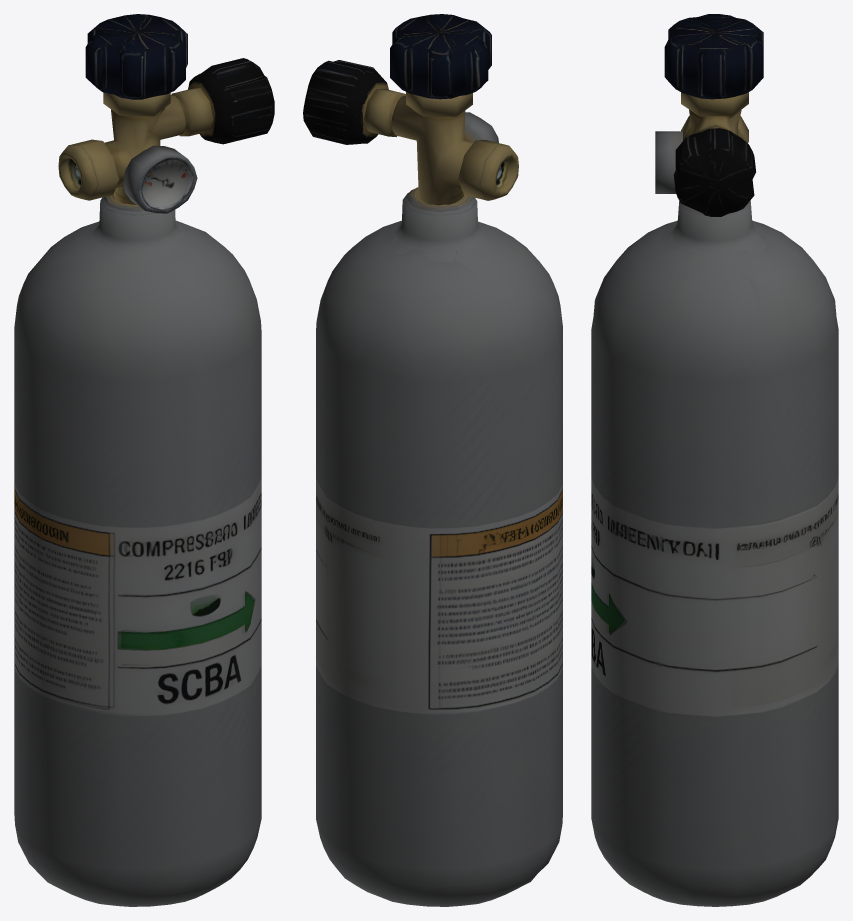
Rendered from PPE_A_SCBA_Cylinder.fbx.
3 views of the same model, side by side, from view 1: azimuth 30°, elevation 25°; view 2: azimuth 150°, elevation 25°; view 3: azimuth 270°, elevation 25° (orthographic).
Parts seen in each view (by area): view 1: tripo_node_a2a2c560-8eca-45fb-bfc4-954d48823762; view 2: tripo_node_a2a2c560-8eca-45fb-bfc4-954d48823762; view 3: tripo_node_a2a2c560-8eca-45fb-bfc4-954d48823762.
Part boxes in pixels (x1,y1,x2,y2): tripo_node_a2a2c560-8eca-45fb-bfc4-954d48823762: (14, 14, 274, 906); tripo_node_a2a2c560-8eca-45fb-bfc4-954d48823762: (303, 14, 562, 906); tripo_node_a2a2c560-8eca-45fb-bfc4-954d48823762: (591, 14, 838, 906).
Size of the model in its own units: 0.2793 by 0.998 by 0.2637.
